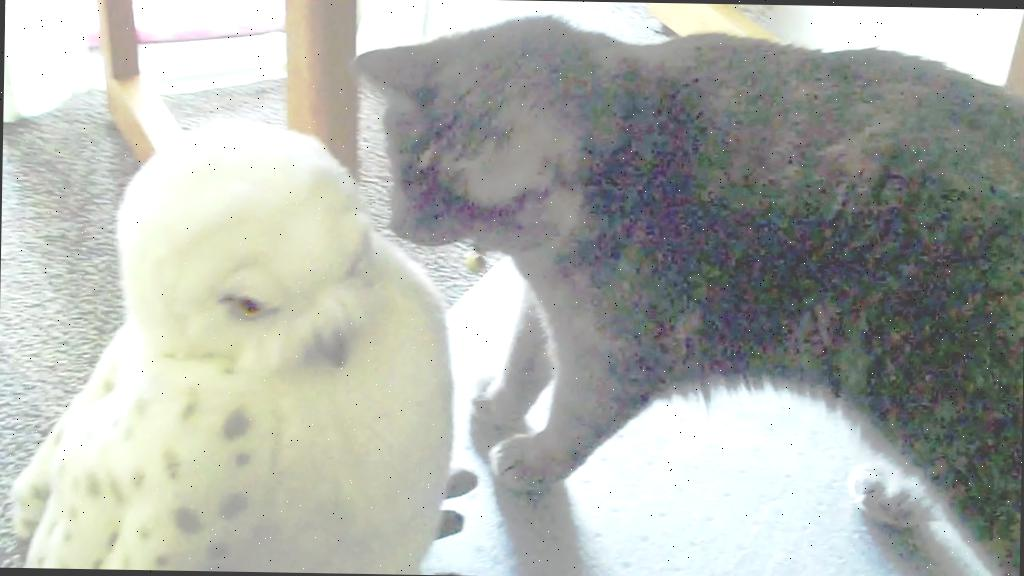Owl: (0, 108, 460, 574)
